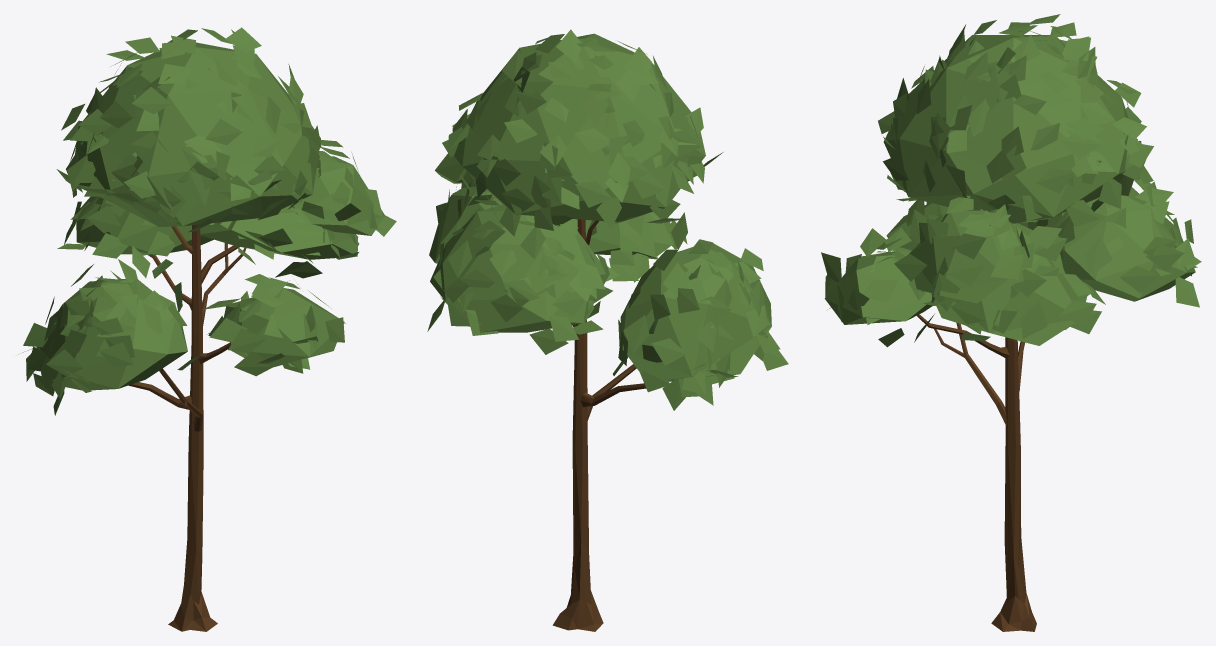
Rendered from tree-beech-mature-a.gltf.
3 views of the same model, side by side, from view 1: azimuth 30°, elevation 25°; view 2: azimuth 150°, elevation 25°; view 3: azimuth 270°, elevation 25° (orthographic).
Parts seen in each view (by area): view 1: tree-beech-mature-a; view 2: tree-beech-mature-a; view 3: tree-beech-mature-a.
Boxes of the visible parts, bbox=[...] form: tree-beech-mature-a: bbox=[18, 27, 396, 631]; tree-beech-mature-a: bbox=[427, 29, 788, 631]; tree-beech-mature-a: bbox=[821, 14, 1201, 631].
Size of the model in its own units: 0.0729 by 0.1222 by 0.0712.
